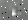person: (14, 7, 22, 18)
